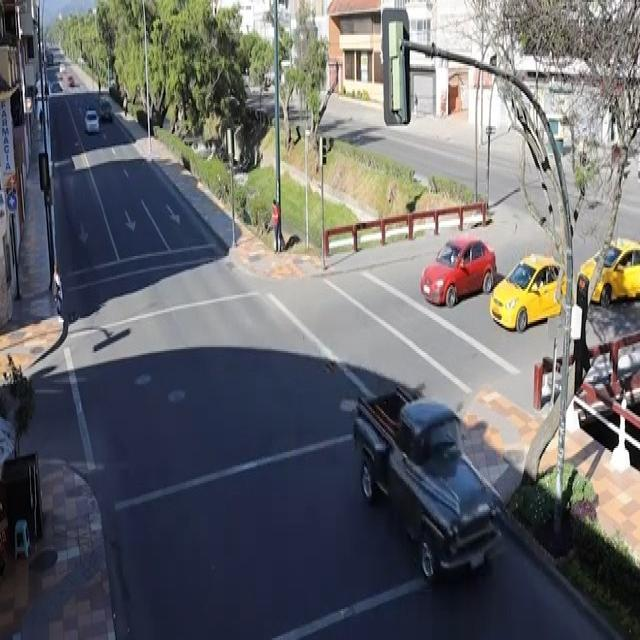CMT: (352, 390, 502, 581)
